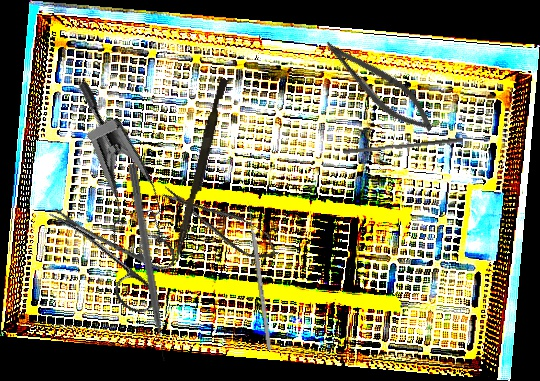Iris Scissors: (28, 178, 187, 320)
Micro Scissor: (313, 32, 444, 141), (157, 174, 284, 270)
Pusher: (172, 76, 229, 265), (125, 162, 169, 363), (246, 200, 272, 351), (342, 132, 464, 159)
Speculum: (18, 78, 199, 271)
